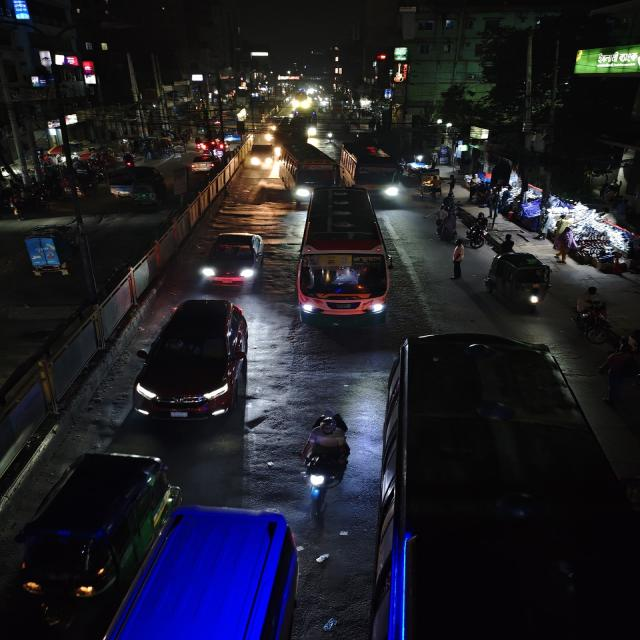bus: (374, 328, 632, 640), (297, 185, 394, 331), (339, 138, 402, 196), (282, 141, 340, 198)
car: (134, 294, 254, 426), (195, 230, 268, 289), (188, 148, 218, 174)
cng: (15, 449, 170, 607), (485, 250, 555, 314), (130, 178, 168, 210)
motorcycle: (297, 409, 352, 518), (569, 286, 619, 346), (468, 213, 495, 249)
pedestrian: (599, 347, 639, 406), (447, 239, 469, 278), (434, 204, 452, 238), (498, 232, 519, 254)
pickup_van: (104, 168, 157, 194), (246, 142, 278, 172)
rickshaw: (17, 224, 82, 280)
